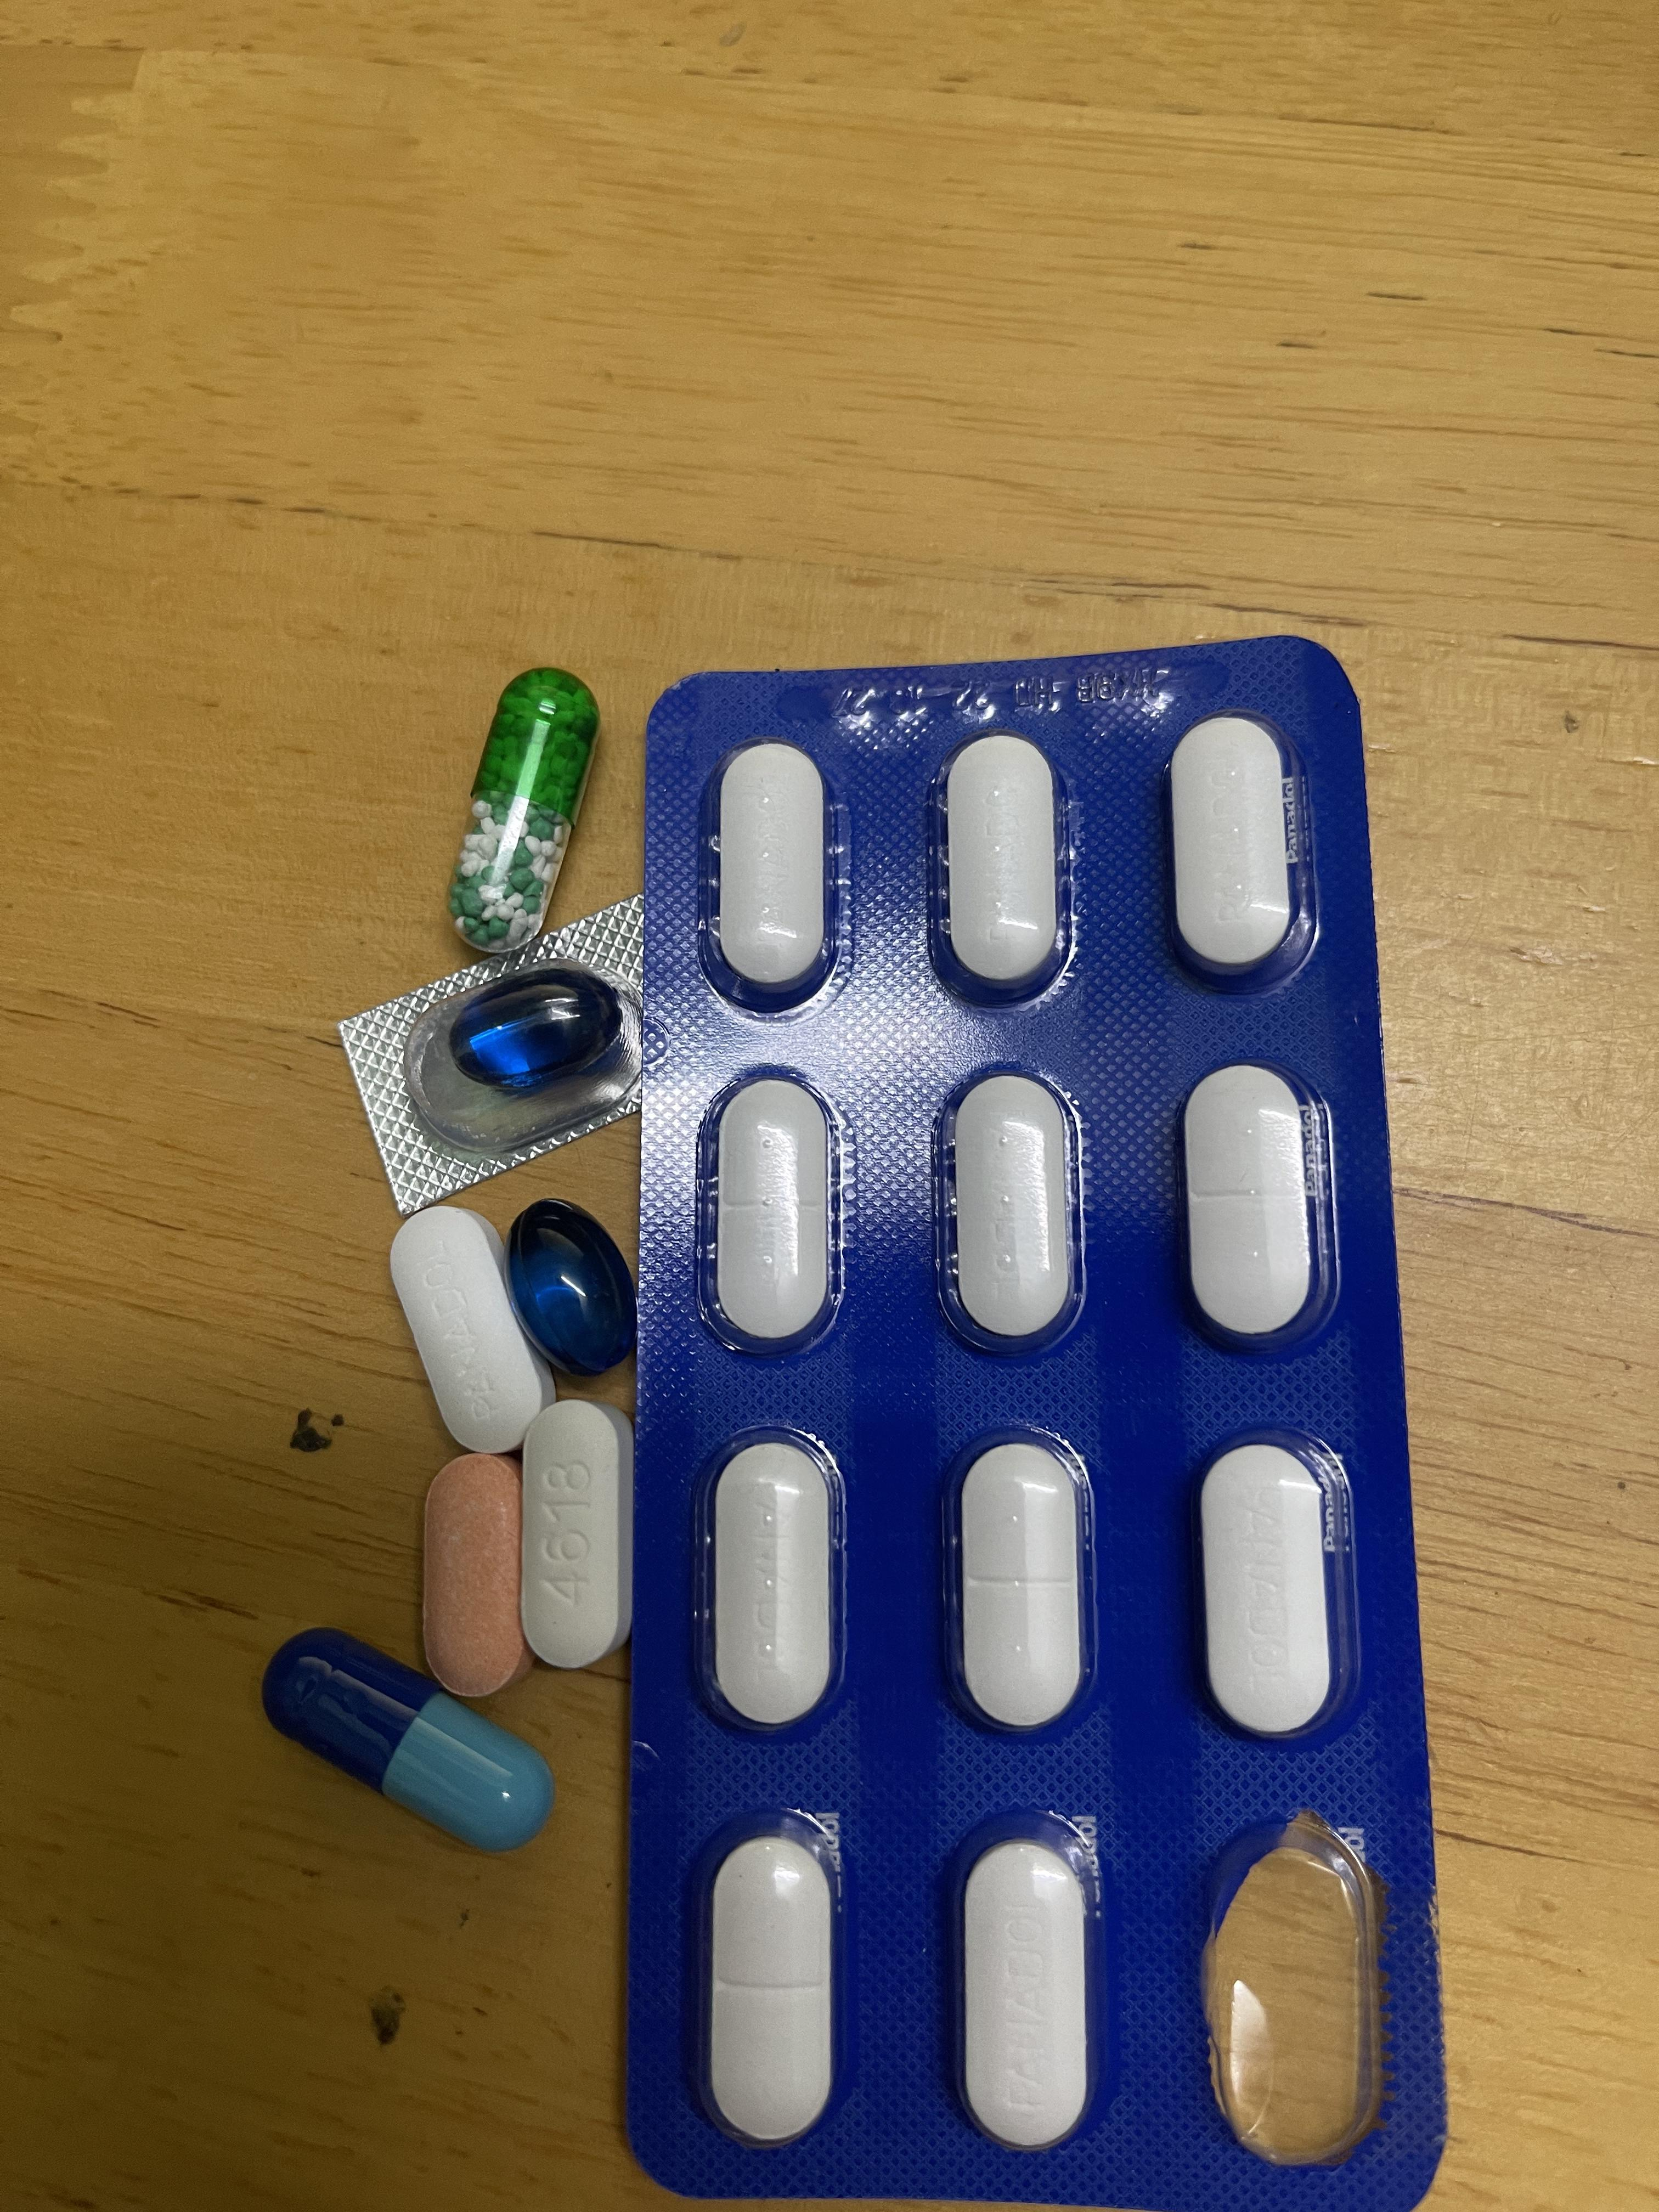Lincomyxin_500mg: (504, 1202, 631, 1379), (453, 974, 612, 1090)
Loratadine_10mg: (420, 1453, 523, 1684)
Paracetamol_350mg: (945, 1811, 1107, 2160), (685, 1811, 842, 2155), (1192, 1430, 1359, 1747), (941, 1430, 1101, 1738), (694, 1430, 845, 1733), (936, 1068, 1091, 1359), (697, 1069, 845, 1355), (389, 1209, 554, 1454), (1185, 1066, 1319, 1348), (1169, 709, 1300, 979), (941, 735, 1065, 998), (716, 740, 828, 995)
Paracetamol_500mg: (521, 1404, 633, 1670)
Paracetamol_650mg: (448, 669, 596, 944)
pill: (267, 1642, 545, 1851)
